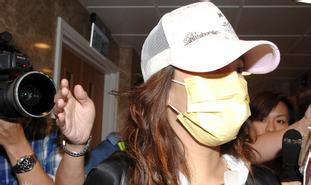NONE: (255, 110, 290, 147)
OK: (170, 55, 255, 146)
